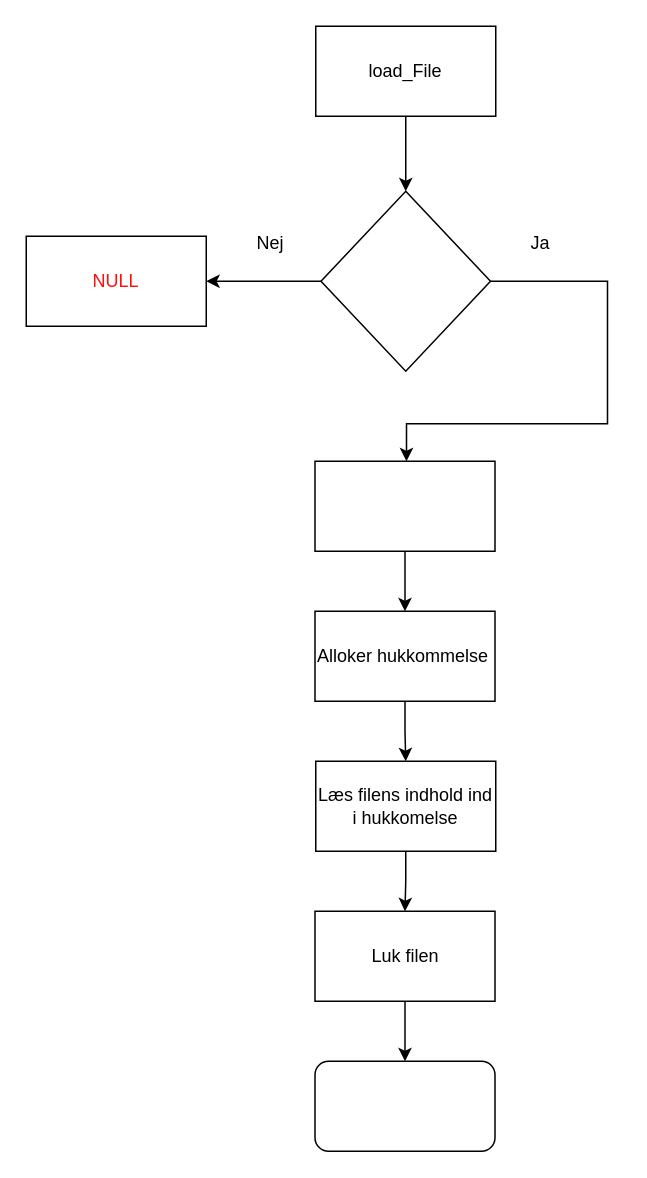
Image size: 647x1178. Some labels were removed from this diagram. The centre of each missing label's shape, as x and y in pixels:
Er data filen tilstede?: the point at 405,280
Mål filens størrelse: the point at 404,505
Retuner indholdet, der nu ligger i hukkkomelsen: the point at 404,1105
